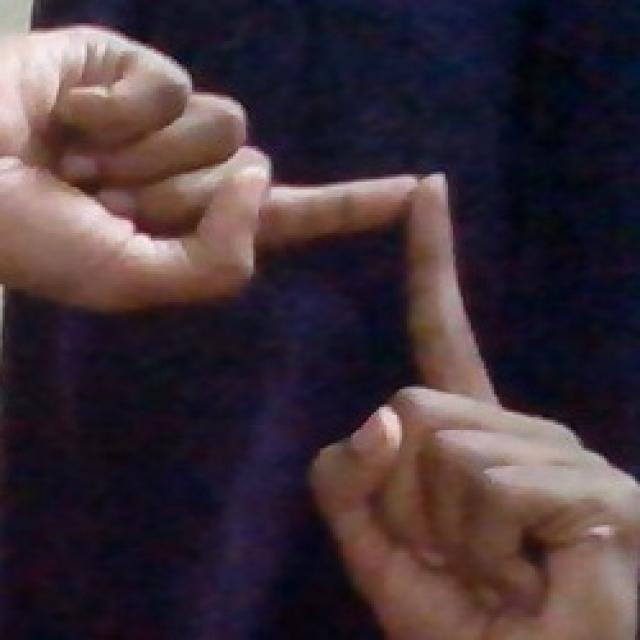Alphabet-E: (0, 26, 420, 312)
